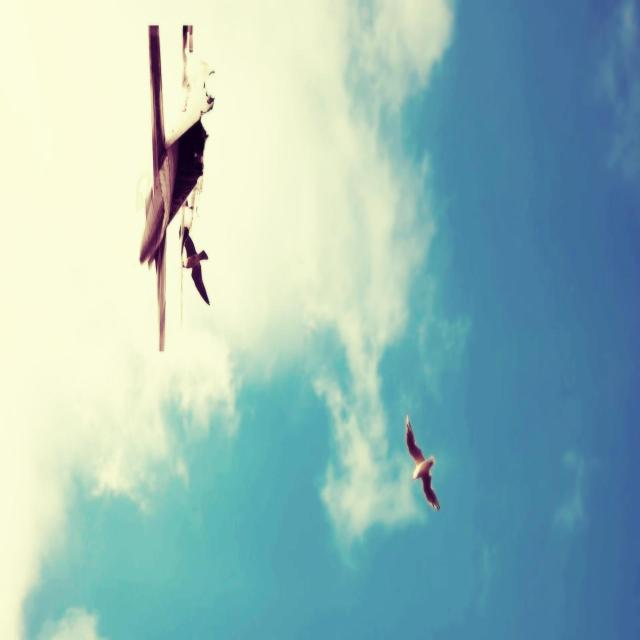airplane: (138, 22, 215, 352)
